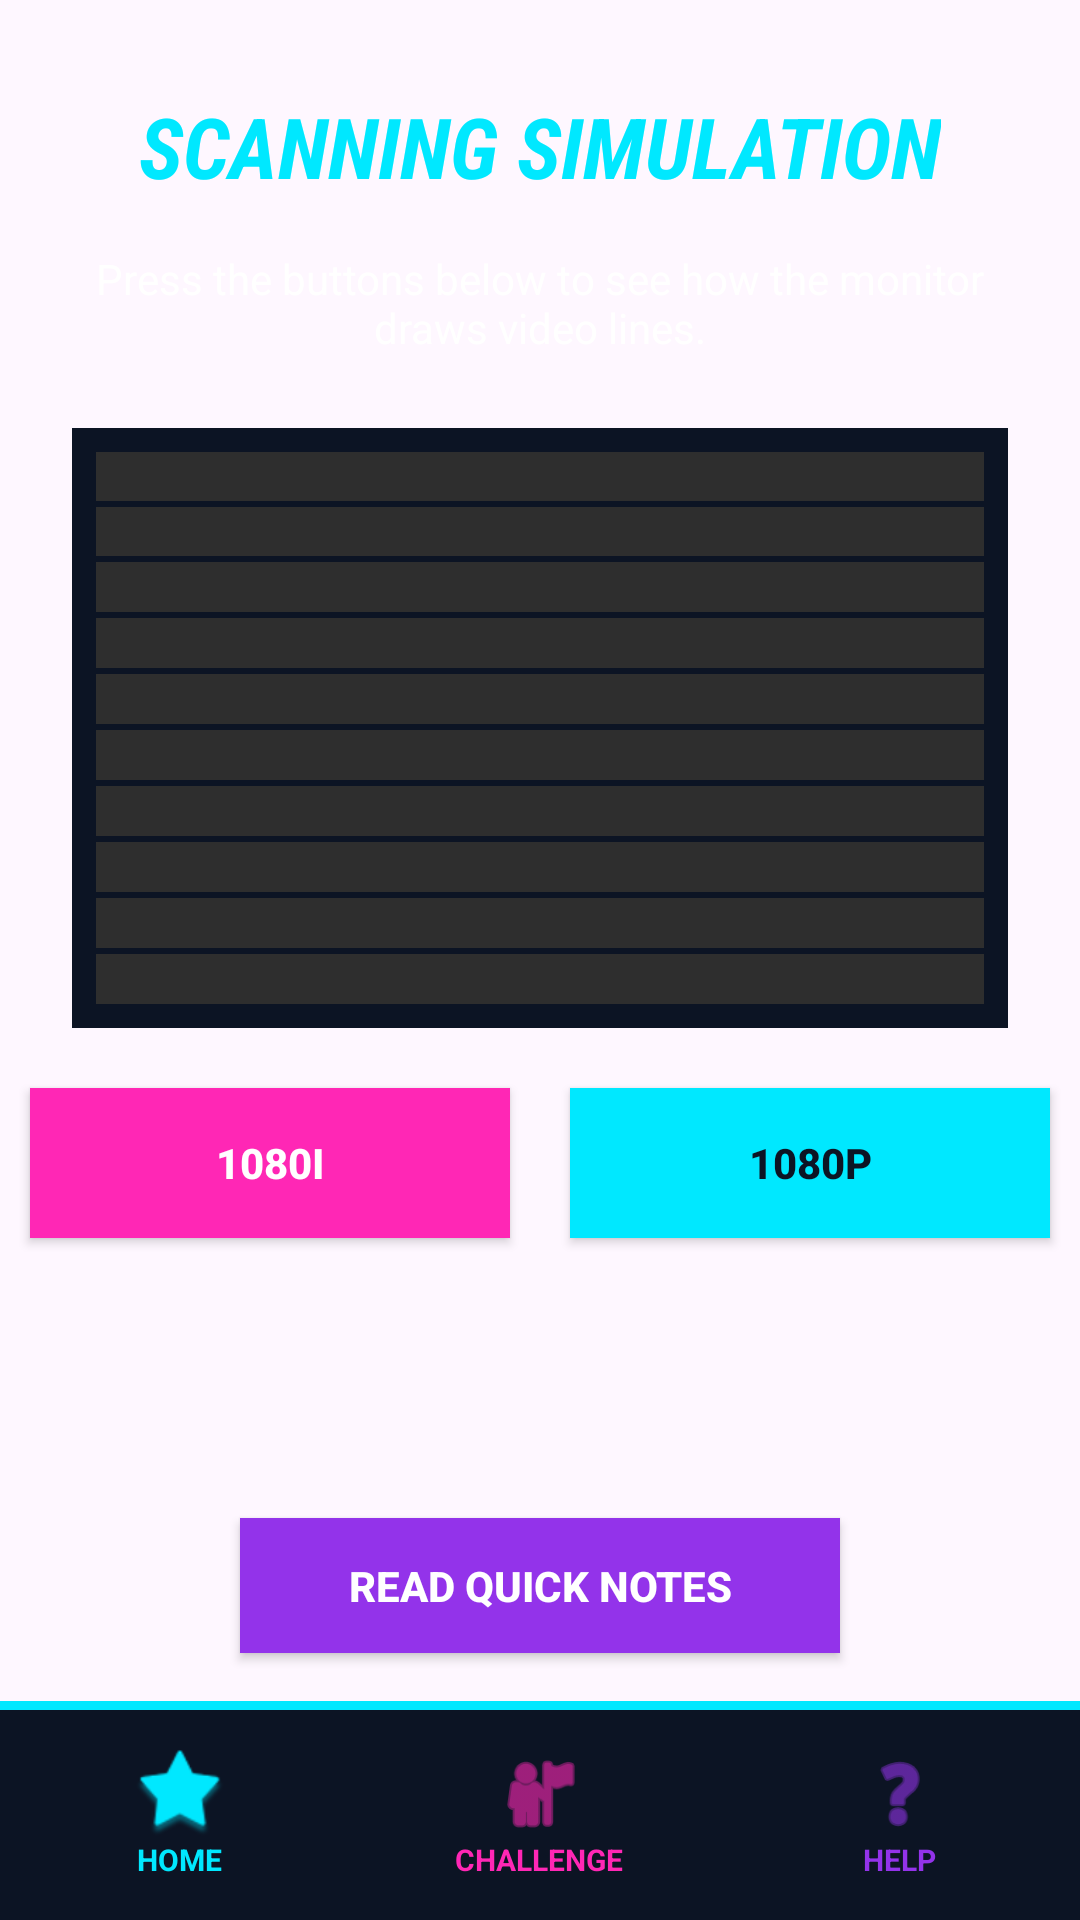

Named icons in this screenshot (1080×1920) and their bounding boxes, box(x1, y1, x2, y2):
star on: box(140, 1750, 220, 1831)
